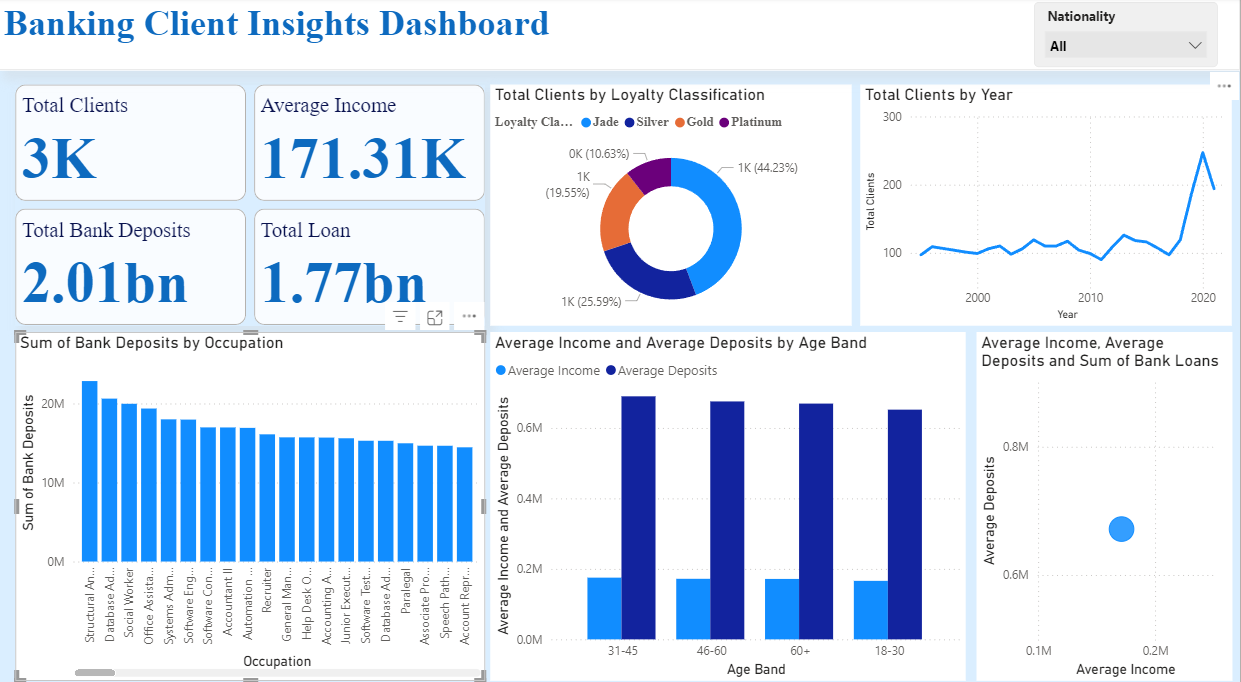

The page's visual inventory and layout, read from the dashboard file:
{"tool":"powerbi","page":{"name":"Page 1","canvas":[1280,720],"ordinal":0},"visuals":[{"type":"cardVisual","fields":{"Data":["dax.Total Clients","dax.Average Income","dax.Total Bank Deposits","dax.Total Loan"]},"box":[16.3,90.5,485.1,248.8],"z":0},{"type":"clusteredColumnChart","fields":{"Category":["Banking-Clients.Occupation"],"Y":["Sum(Banking-Clients.Bank Deposits)"]},"box":[16.2,345.8,485.1,360.7],"z":1000},{"type":"donutChart","fields":{"Category":["Banking-Clients.Loyalty Classification"],"Y":["dax.Total Clients"]},"box":[506.4,90.5,373.2,248.8],"z":2000},{"type":"clusteredColumnChart","fields":{"Category":["Banking-Clients.Age Band"],"Y":["dax.Average Income","dax.Average Deposits"]},"box":[506.3,345.8,490.1,360.7],"z":3000},{"type":"lineChart","fields":{"Category":["Banking-Clients.Joined Bank.Variation.Date Hierarchy.Year","Banking-Clients.Joined Bank.Variation.Date Hierarchy.Quarter","Banking-Clients.Joined Bank.Variation.Date Hierarchy.Month","Banking-Clients.Joined Bank.Variation.Date Hierarchy.Day"],"Y":["dax.Total Clients"]},"box":[888.3,90.5,383.1,248.8],"z":4000},{"type":"scatterChart","fields":{"X":["dax.Average Income"],"Size":["Sum(Banking-Clients.Bank Loans)"],"Y":["dax.Average Deposits"]},"box":[1007.6,345.8,263.7,360.7],"z":5000},{"type":"textbox","box":[0,0,1280.3,76.1],"z":6000},{"type":"slicer","fields":{"Values":["Banking-Clients.Nationality"]},"box":[1067.5,5.2,189.5,67],"z":6001}]}

Visuals, with their boxes in screenshot pixels (x1, y1, x2, y2), scaled from the page's 1280x720 canvas onto the 1241x682 screenshot:
cardVisual - dax.Total Clients x dax.Average Income: locate(16, 86, 486, 321)
clusteredColumnChart - Banking-Clients.Occupation x Sum(Banking-Clients.Bank Deposits): locate(16, 328, 486, 669)
donutChart - Banking-Clients.Loyalty Classification x dax.Total Clients: locate(491, 86, 853, 321)
clusteredColumnChart - Banking-Clients.Age Band x dax.Average Income: locate(491, 328, 966, 669)
lineChart - Banking-Clients.Joined Bank.Variation.Date Hierarchy.Year x Banking-Clients.Joined Bank.Variation.Date Hierarchy.Quarter: locate(861, 86, 1233, 321)
scatterChart - dax.Average Income x Sum(Banking-Clients.Bank Loans): locate(977, 328, 1233, 669)
textbox: locate(0, 0, 1240, 72)
slicer - Banking-Clients.Nationality: locate(1035, 5, 1219, 68)
